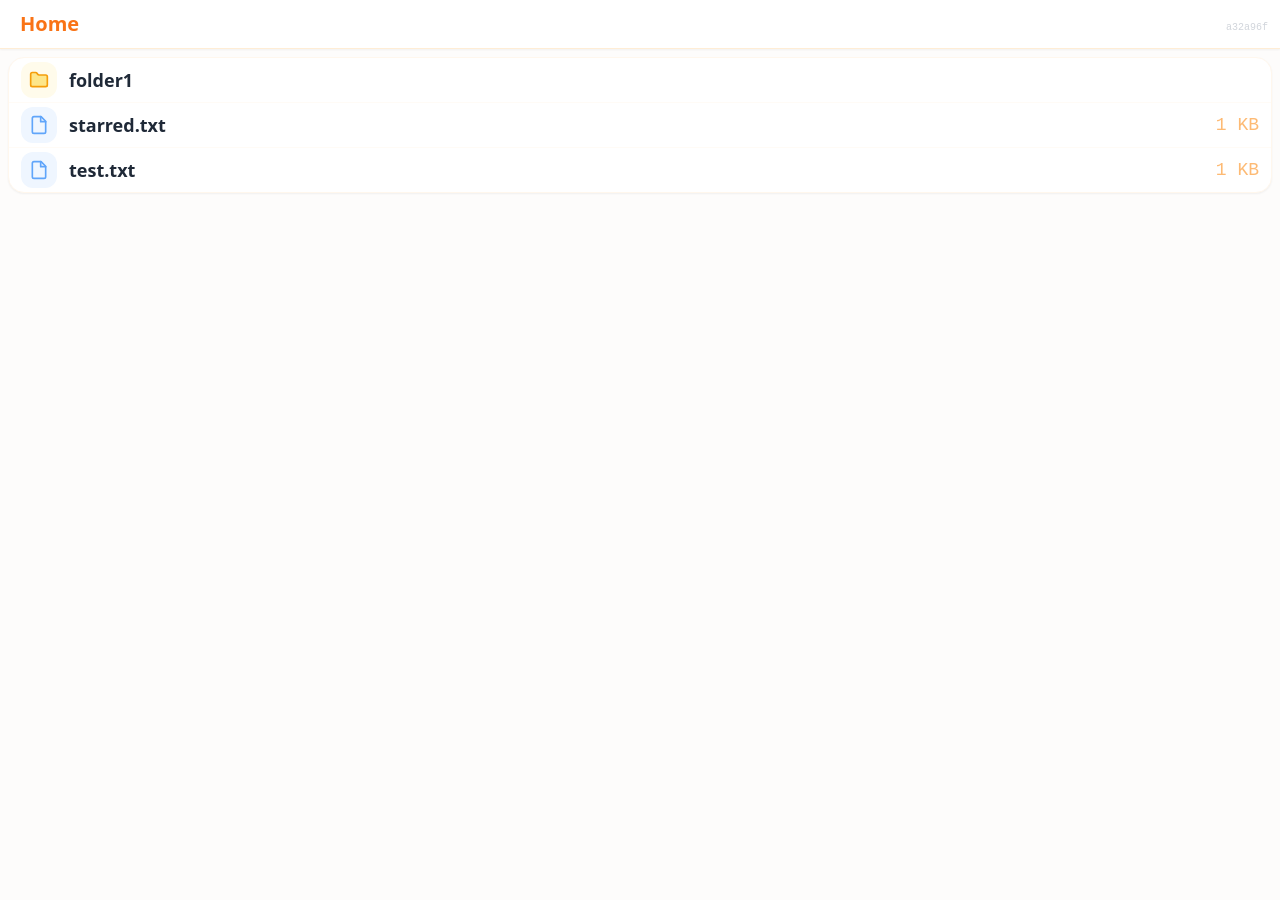
starred files appear before non-starred files
Expected: the text "folder1" is shown, [69, 69, 133, 91]
Note: Toggle star on starred.txt
Right-click the text "starred.txt" at (640, 124), box [9, 102, 1271, 147]
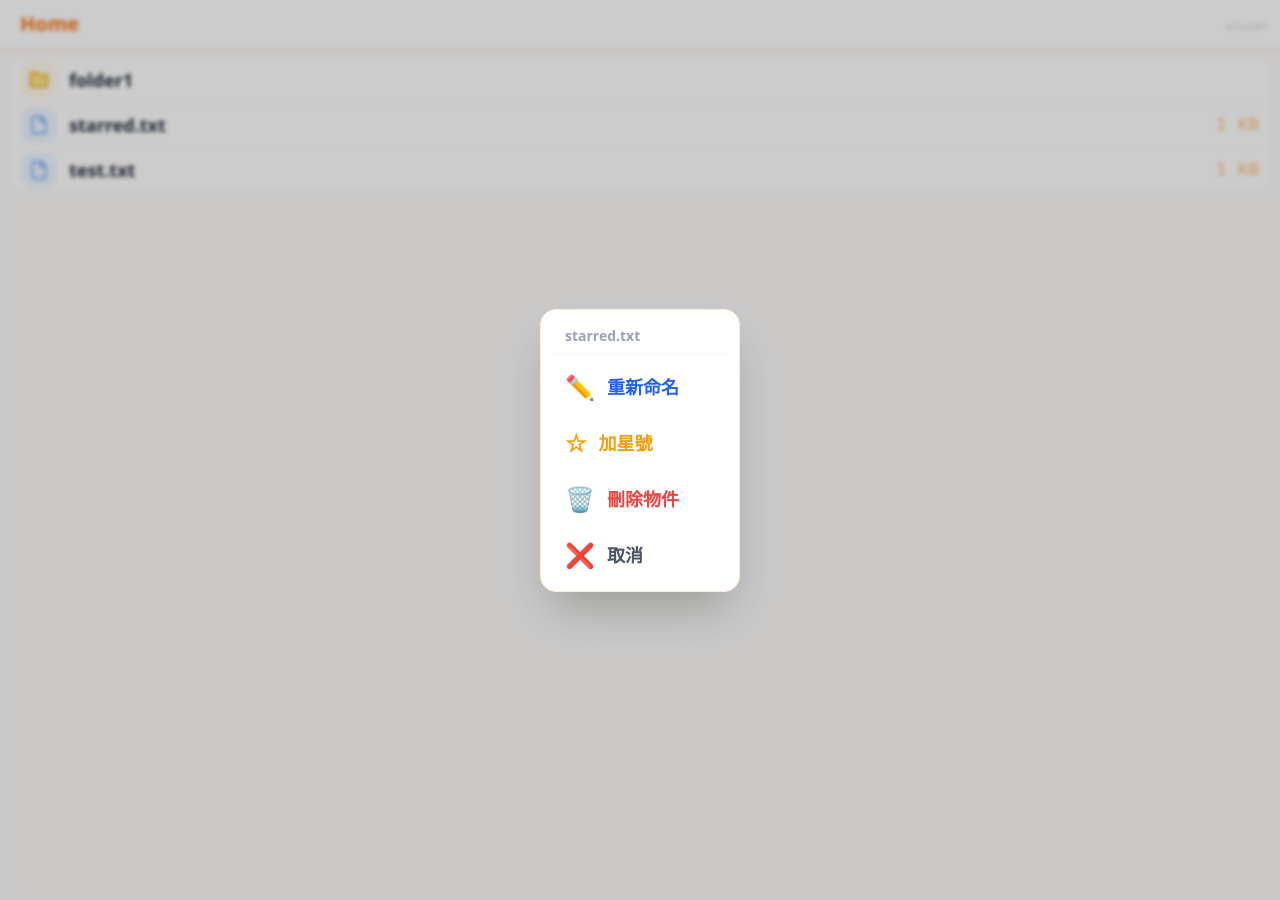
Click the button "☆ 加星號" at (640, 442), box [549, 414, 731, 470]
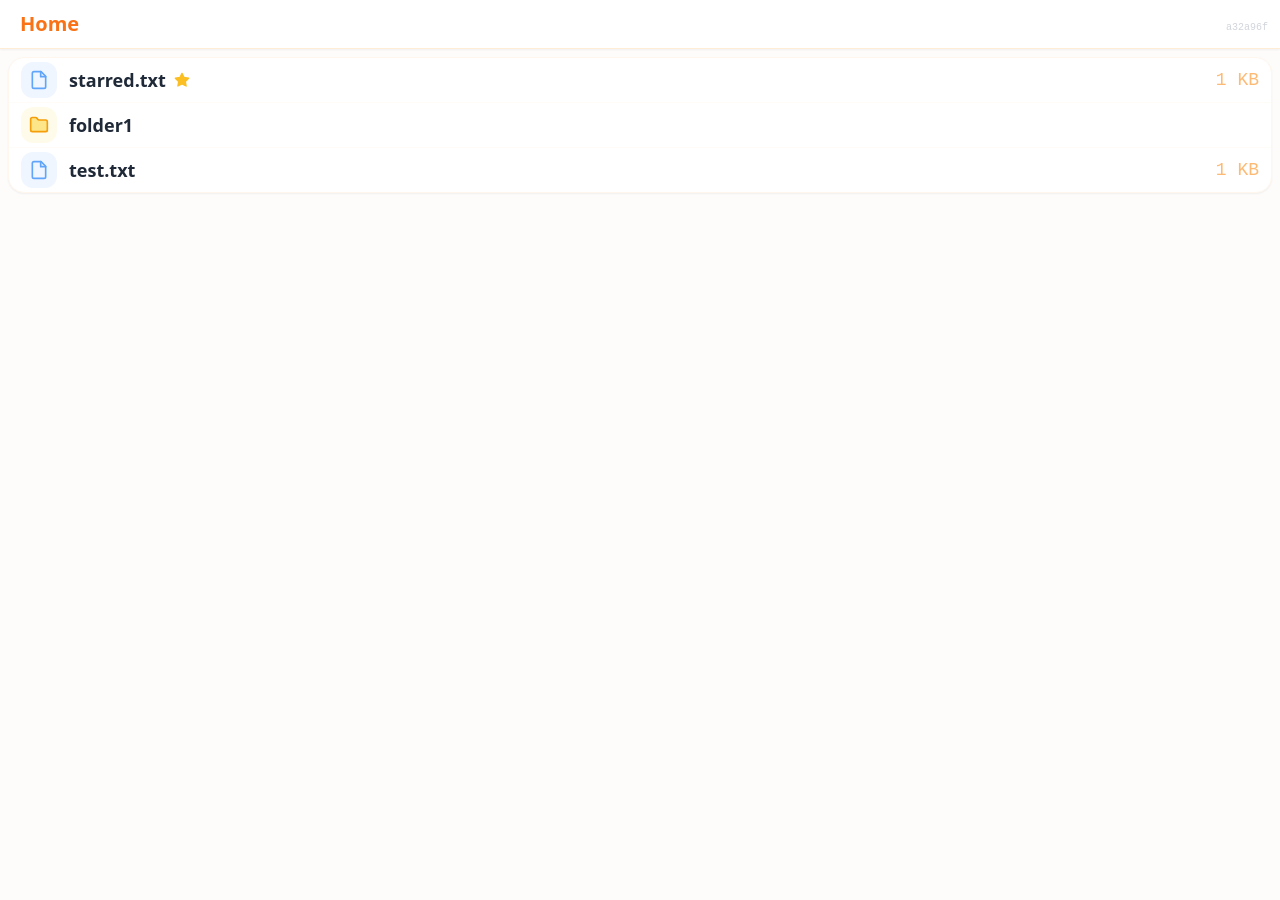
Expected: the text "test.txt" is shown, [69, 159, 135, 181]
Expected: the text "starred.txt" is shown, [69, 69, 166, 91]
Expected: the text "folder1" is shown, [69, 114, 133, 136]
